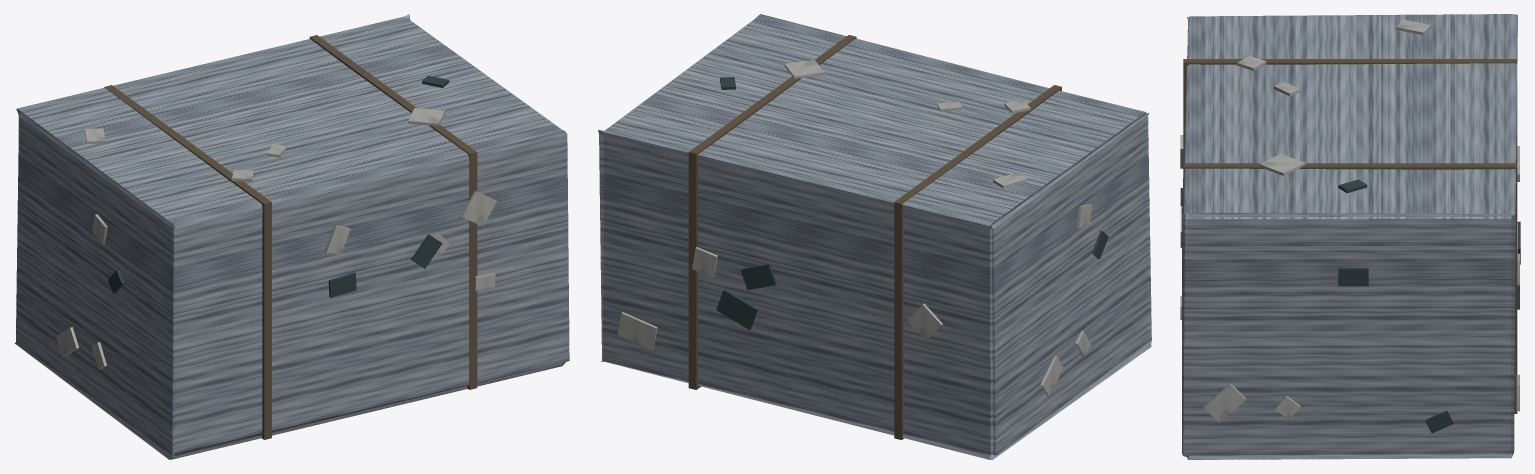
File: bale_cave.glb
The picture shows the model from 3 angles, left to right: view 1: azimuth 30°, elevation 25°; view 2: azimuth 150°, elevation 25°; view 3: azimuth 270°, elevation 25°; orthographic projection. The views are drawn at different scales.
Parts seen in each view (by area): view 1: BaleCave; view 2: BaleCave; view 3: BaleCave.
Boxes of the visible parts, x1=… form: BaleCave: x1=14, y1=14, x2=569, y2=459; BaleCave: x1=598, y1=14, x2=1151, y2=459; BaleCave: x1=1180, y1=14, x2=1520, y2=459.
Bounding box in the file's own units: 1.31 × 0.7483 × 0.9203.
4 materials, 2 textured.
